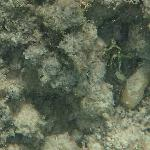dead: (1, 1, 147, 147)
